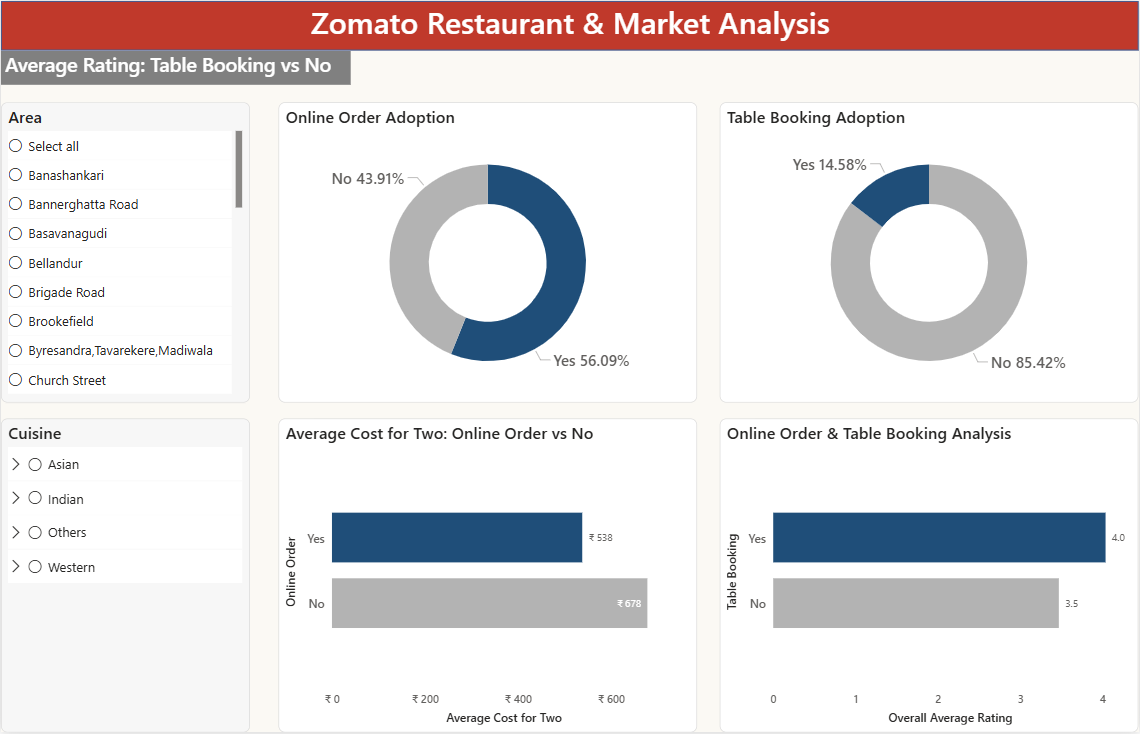

This screenshot's page, from the dashboard's own definition file:
{"tool":"powerbi","page":{"name":"Online Order & Table Booking Analysis","canvas":[1400,900],"ordinal":3},"visuals":[{"type":"textbox","title":"Zomato Restaurant & Market Analysis ","box":[0,0,1400,61],"z":0},{"type":"textbox","title":"Average Rating: Table Booking vs No","box":[0,61.5,430.8,41.5],"z":1000},{"type":"donutChart","title":"Online Order Adoption","fields":{"Y":["_Measures.Total Restaurants"],"Category":["zomato.online_order"]},"box":[341.5,124.6,515.4,369.2],"z":1001},{"type":"donutChart","title":"Table Booking Adoption","fields":{"Category":["zomato.table booking"],"Y":["_Measures.Total Restaurants"]},"box":[884.6,124.6,515.4,369.2],"z":1002},{"type":"clusteredBarChart","title":"Average Cost for Two: Online Order vs No","fields":{"Category":["zomato.online_order"],"Y":["_Measures.Average Cost for Two"]},"box":[341.5,513.8,515.4,386.2],"z":1003},{"type":"clusteredBarChart","title":"Online Order & Table Booking Analysis","fields":{"Category":["zomato.table booking"],"Y":["_Measures.Overall Average Rating"]},"box":[884.6,513.8,515.4,386.2],"z":1004},{"type":"listSlicer","title":"Area","fields":{"Values":["zomato.area"]},"box":[0,124.6,306.2,369.2],"z":1005},{"type":"listSlicer","title":"Cuisine ","fields":{"Values":["zomato.Cuisine Group","zomato.cuisines type"]},"box":[0,513.8,306.2,386.2],"z":1006}]}

Visuals, with their boxes in screenshot pixels (x1, y1, x2, y2), scaled from the page's 1400x900 canvas onto the 1140x734 screenshot:
"Zomato Restaurant & Market Analysis " textbox: crop(0, 0, 1139, 50)
"Average Rating: Table Booking vs No" textbox: crop(0, 50, 351, 84)
"Online Order Adoption" donutChart: crop(278, 102, 698, 403)
"Table Booking Adoption" donutChart: crop(720, 102, 1139, 403)
"Average Cost for Two: Online Order vs No" clusteredBarChart: crop(278, 419, 698, 733)
"Online Order & Table Booking Analysis" clusteredBarChart: crop(720, 419, 1139, 733)
"Area" listSlicer: crop(0, 102, 249, 403)
"Cuisine " listSlicer: crop(0, 419, 249, 733)
